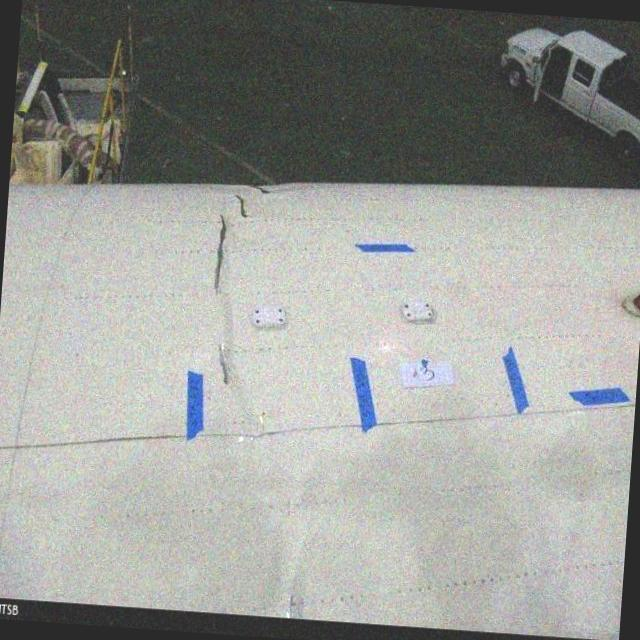crack: (206, 211, 228, 294), (212, 343, 235, 382), (230, 190, 252, 224)
